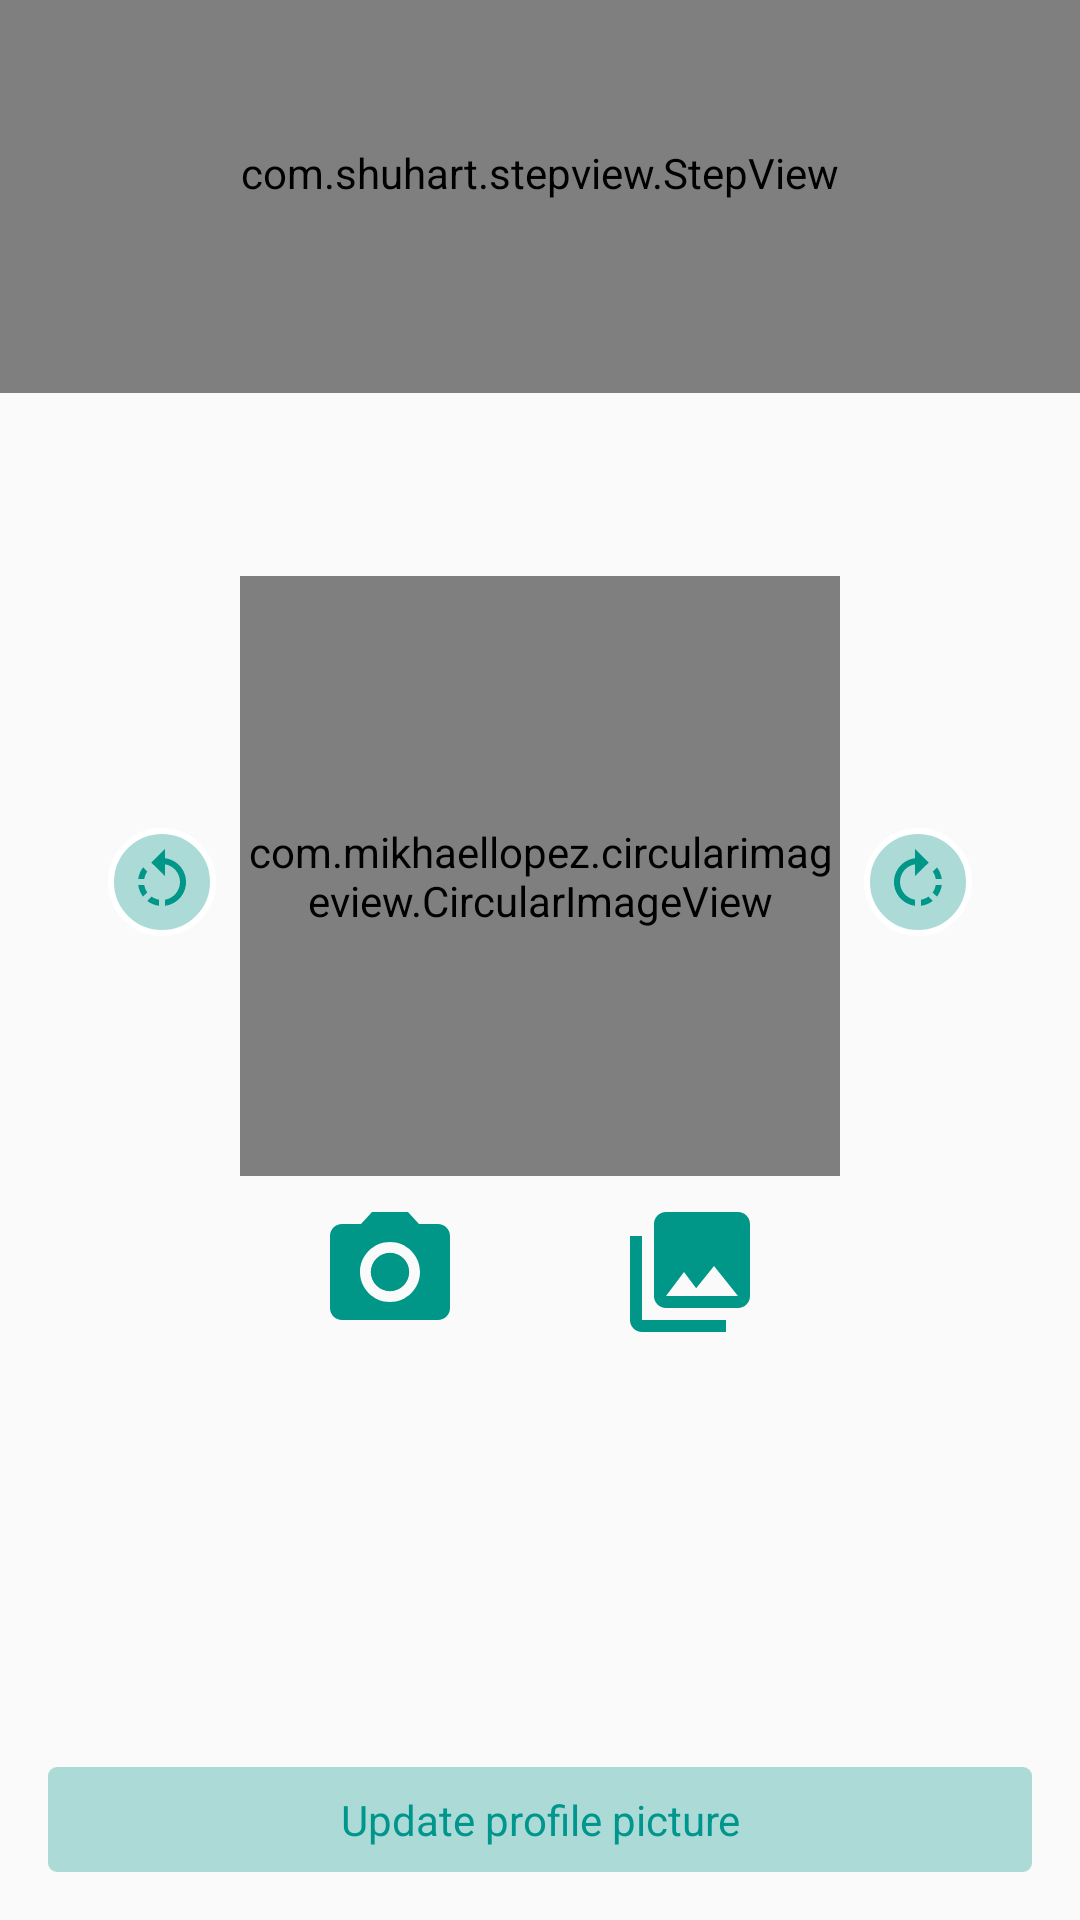

Where icons sit on this 1080x1920 app screen, as (x1, y1, x2, y2):
Rotate profile picture left: (114, 834, 210, 930)
Rotate profile picture right: (870, 834, 966, 930)
Take picture: (330, 1212, 450, 1320)
Upload picture from gallery: (630, 1212, 750, 1332)
